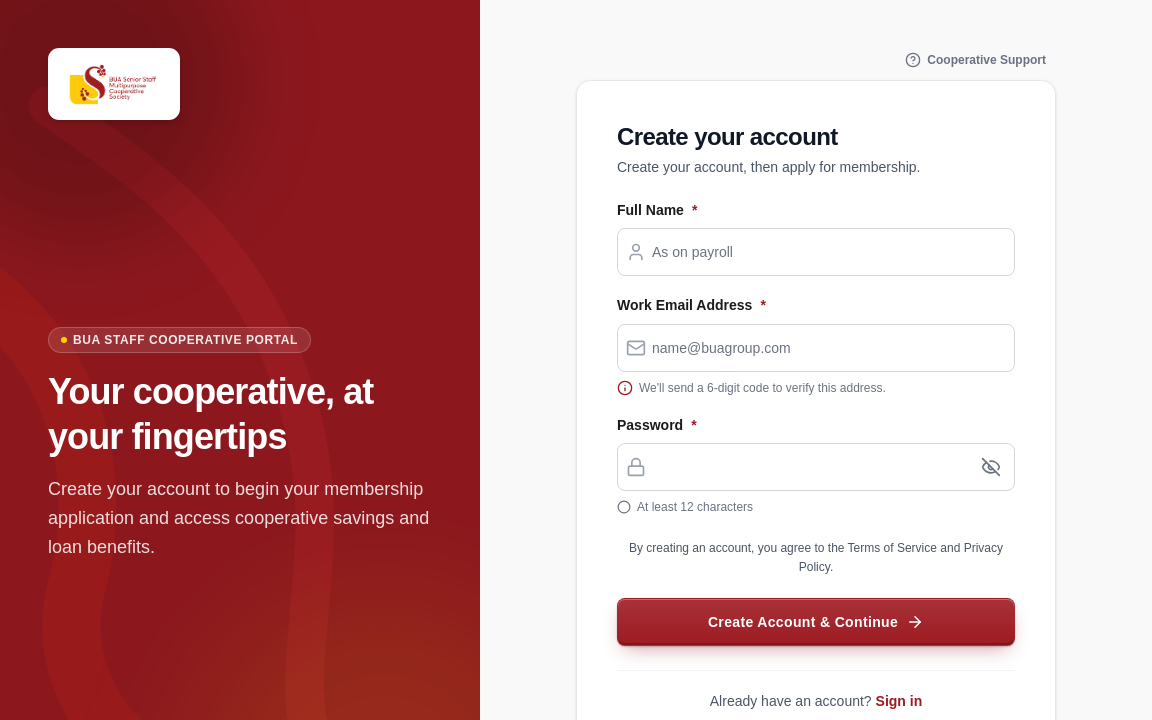
it: SignupPage › clears a Rails error once its field is edited
The width and height of the screenshot is (1152, 720).
Check: the heading "Create your account" is shown, box [617,123,838,150]
Type "  Ada Obi " into the field labelled "Full Name *" at (830, 252), box [646,229,1014,275]
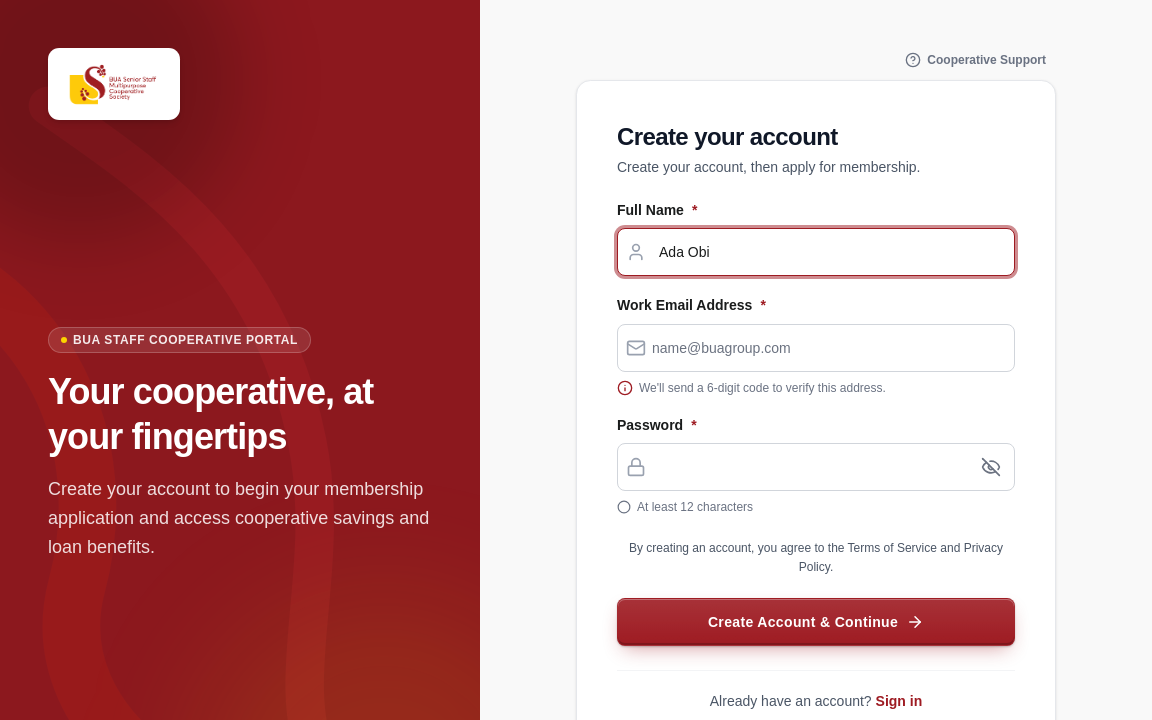
Type " Ada@Example.com" into the field labelled "Work Email Address *" at (830, 348), box [646,324,1014,370]
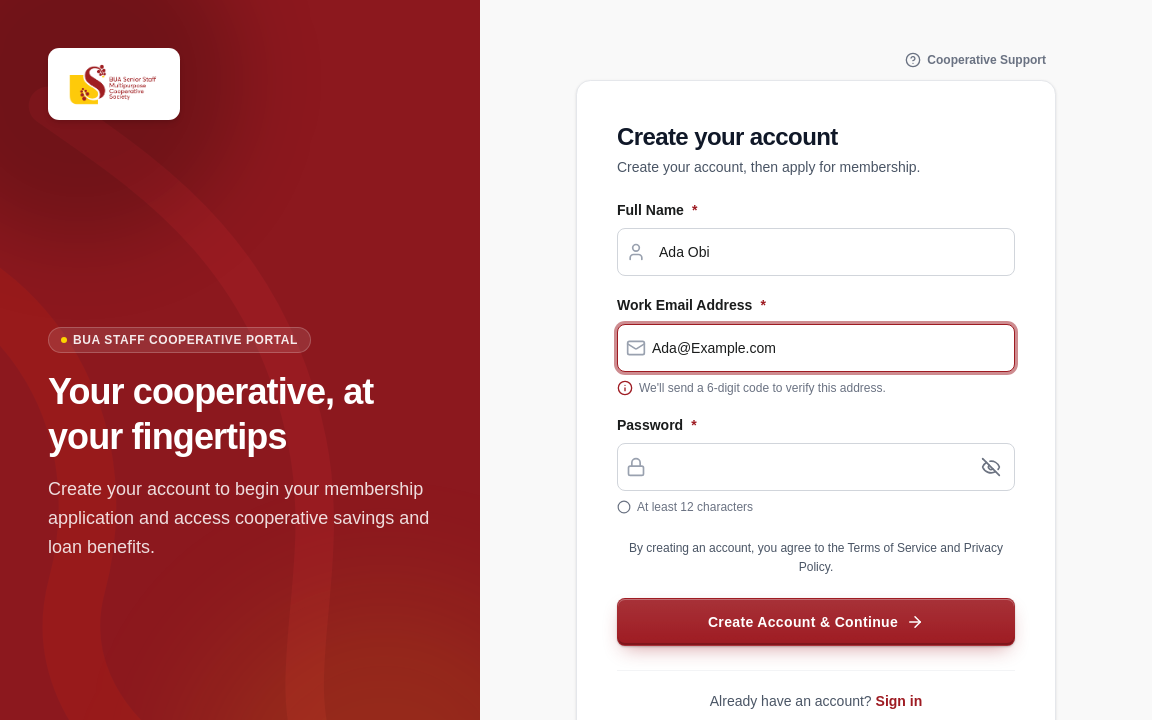
Type "correct horse battery" into the password field labelled "Password *" at (808, 467), box [646,444,971,490]
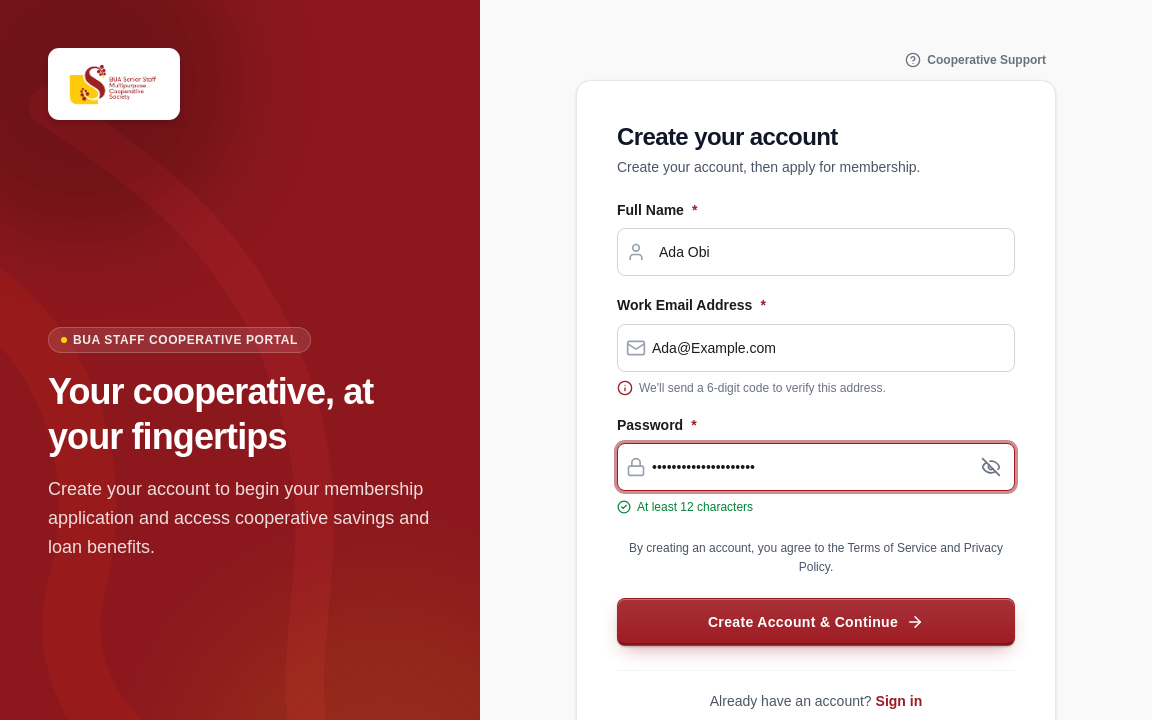
Click the button "Create Account & Continue" at (816, 622), box [617,598,1015,646]
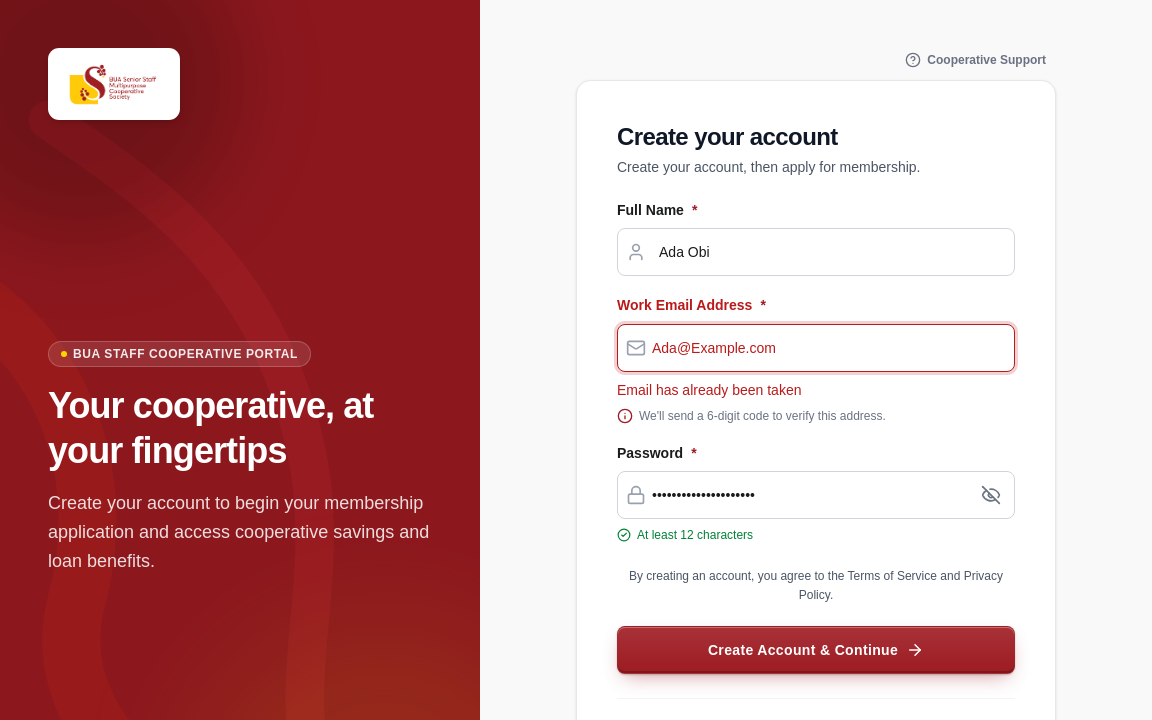
Check: the text "Email has already been taken" is shown, box [617,382,802,398]
Type "m" into the field labelled "Work Email Address *" at (830, 348), box [646,324,1014,370]
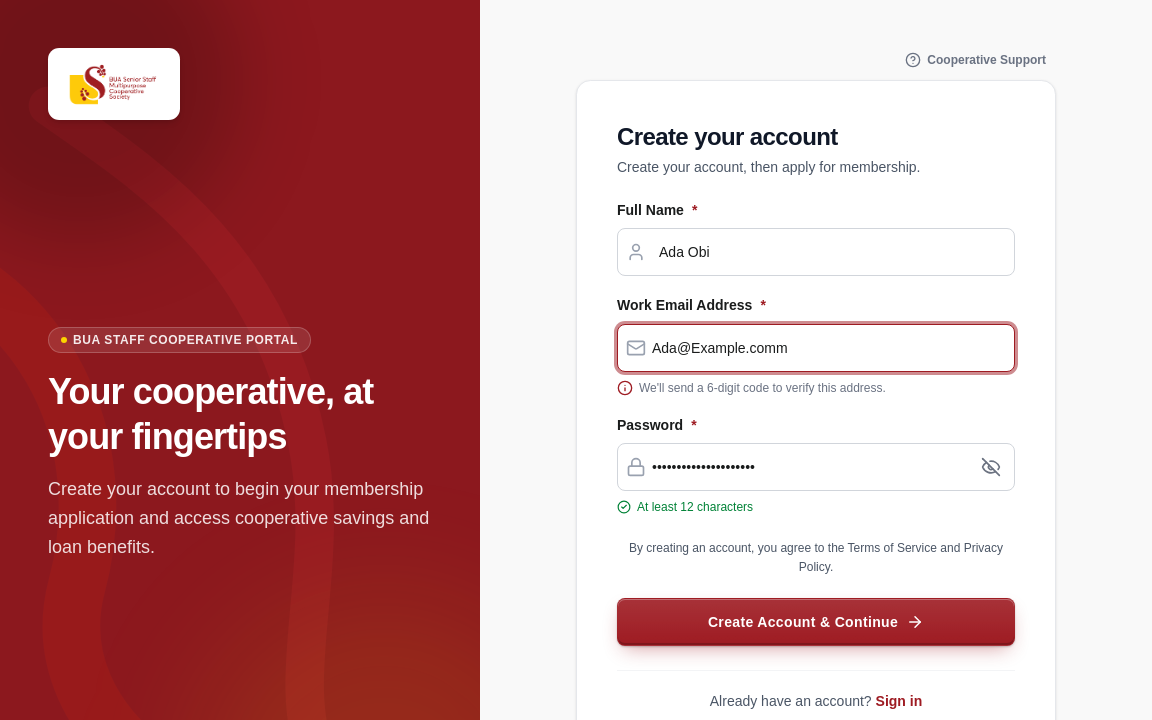
Check: the text "Email has already been taken" is gone
